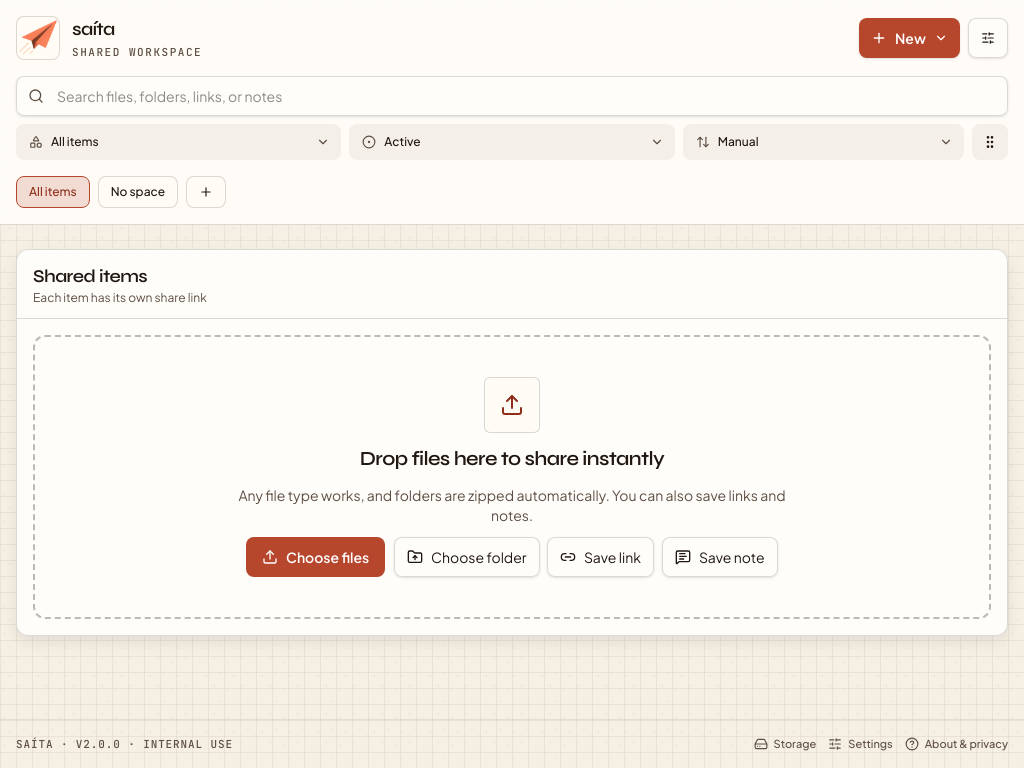
it: uses app info for the footer version and note limit
This screenshot has width=1024, height=768.
Check: the text "saíta · v2.0.0 · Internal use" is shown, box [16,736,233,752]
Click the button "New" at (910, 38), box [859,18,960,58]
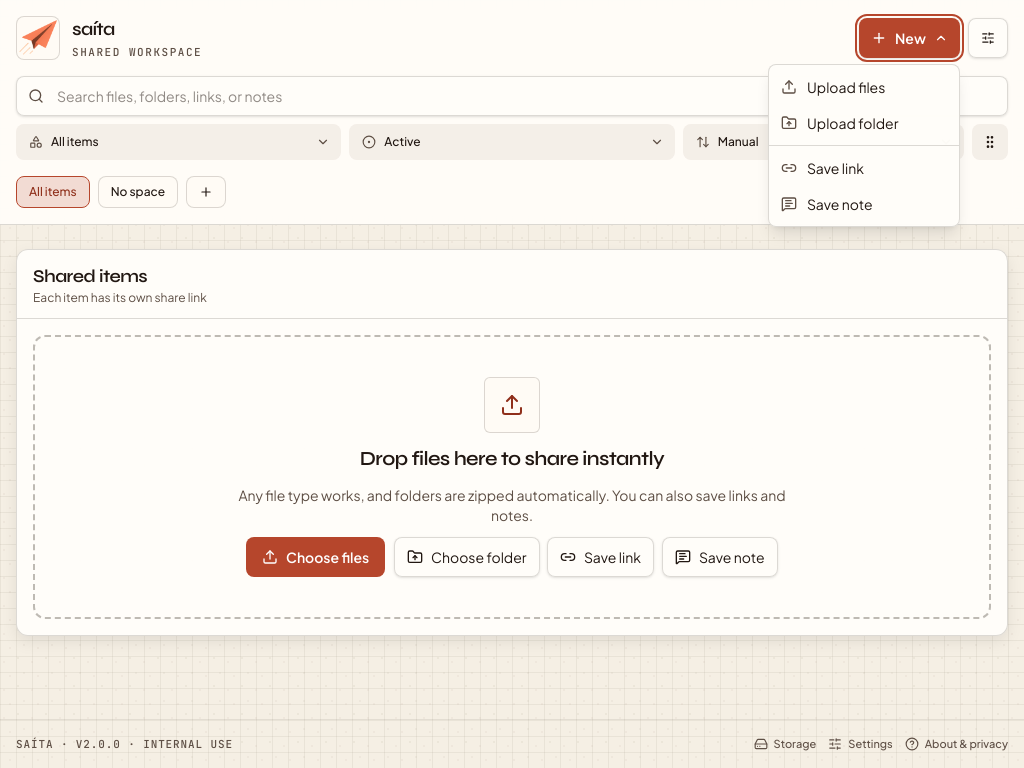
Click the 1st button "Save note" at (864, 204), box [769,186,959,222]
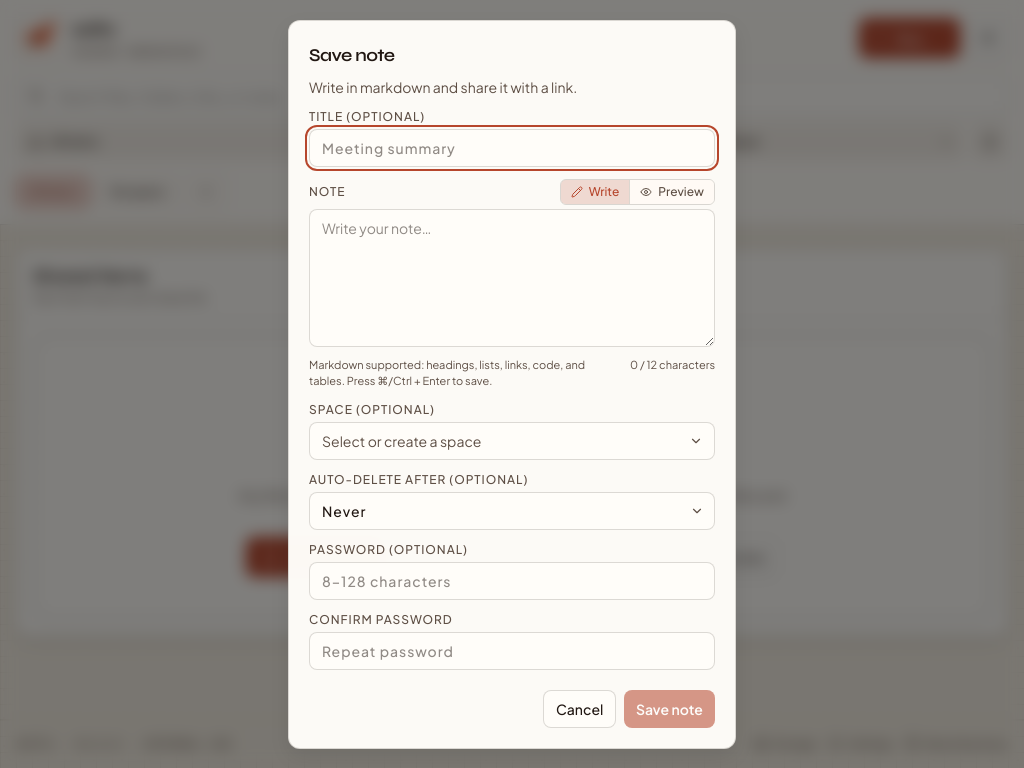
Check: the text "0 / 12 characters" is shown, box [630,356,715,373]
